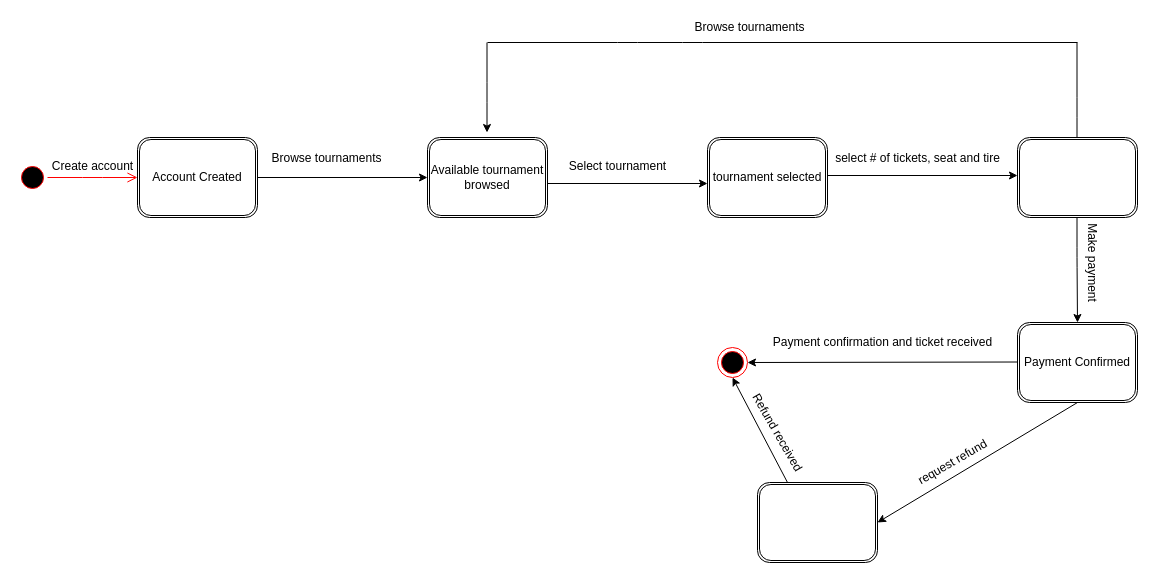
Image size: 1155x580. Some labels were removed from this diagram. The box of each missing label's shape, as (x1, y1, x2, y2) in pixels:
Refund processed: (756, 482, 878, 562)
ticket added to cart: (1016, 136, 1138, 218)
